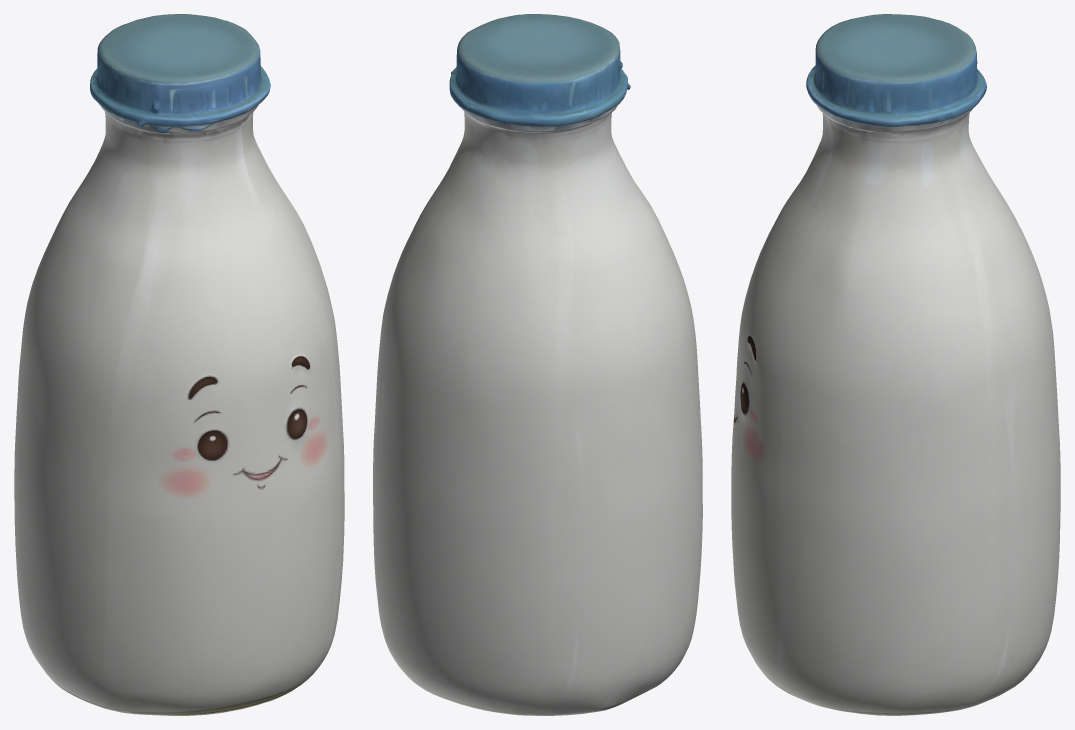
The model's file is milk.glb.
3 views of the same model, side by side, from view 1: azimuth 30°, elevation 25°; view 2: azimuth 150°, elevation 25°; view 3: azimuth 270°, elevation 25° (orthographic).
Size of the model in its own units: 31808 by 65694 by 31848.
1 material, 1 textured.
